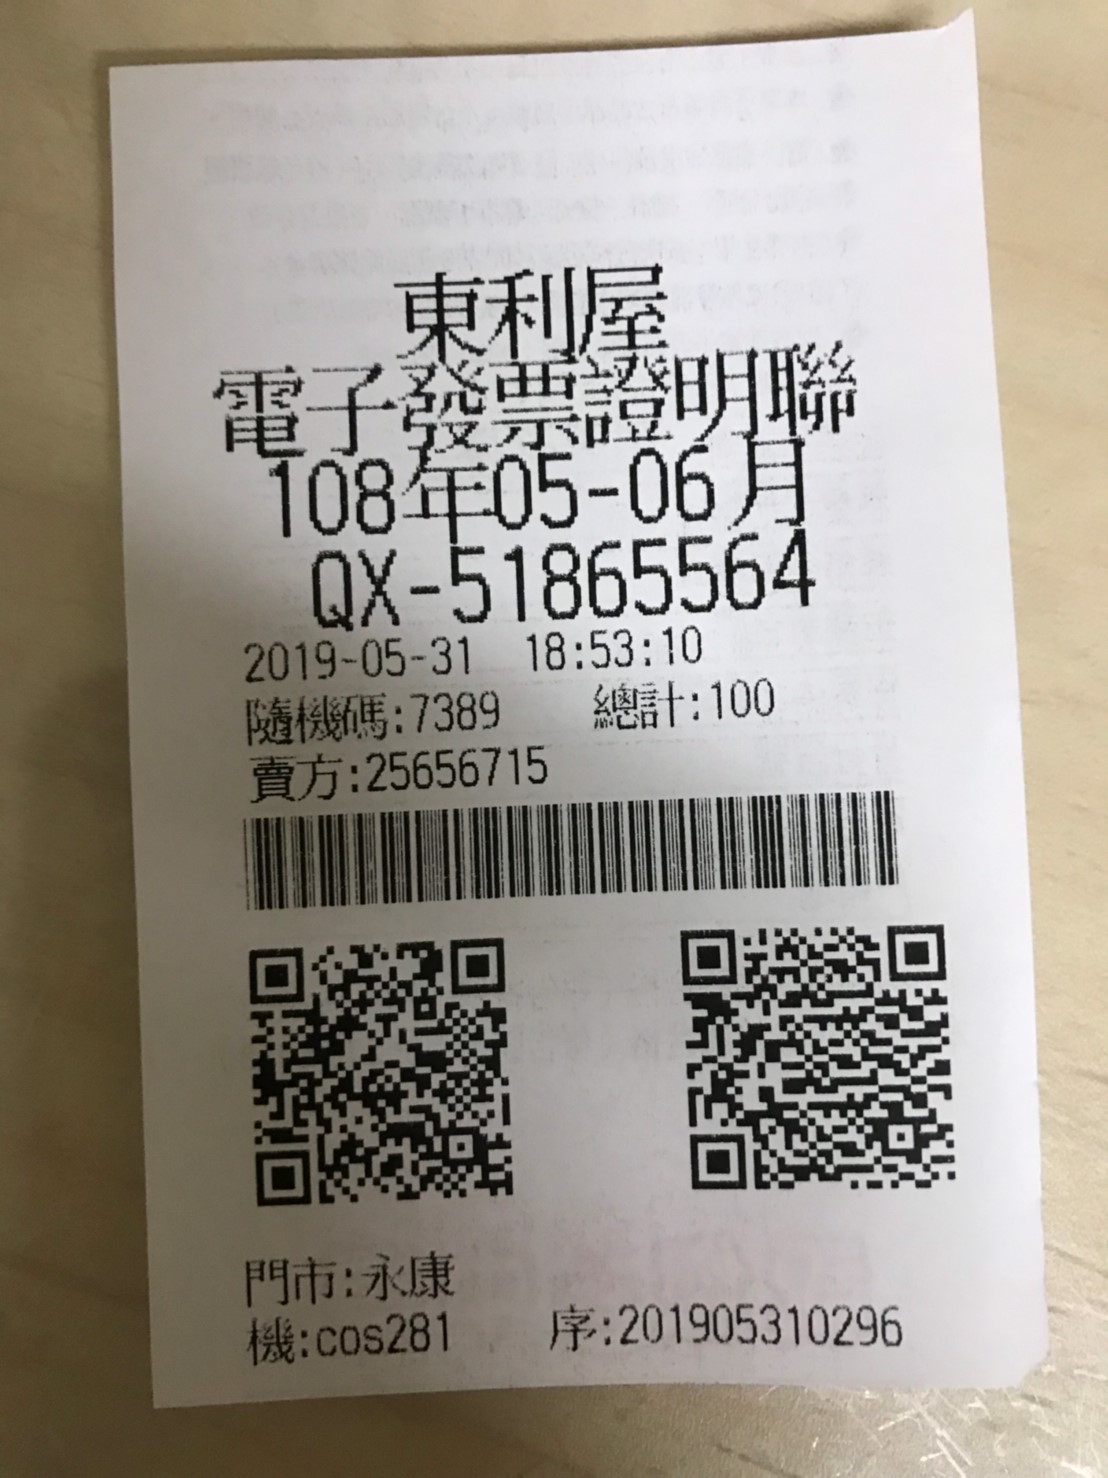Date_New: (265, 434, 812, 539)
Number_New: (445, 527, 824, 625)
